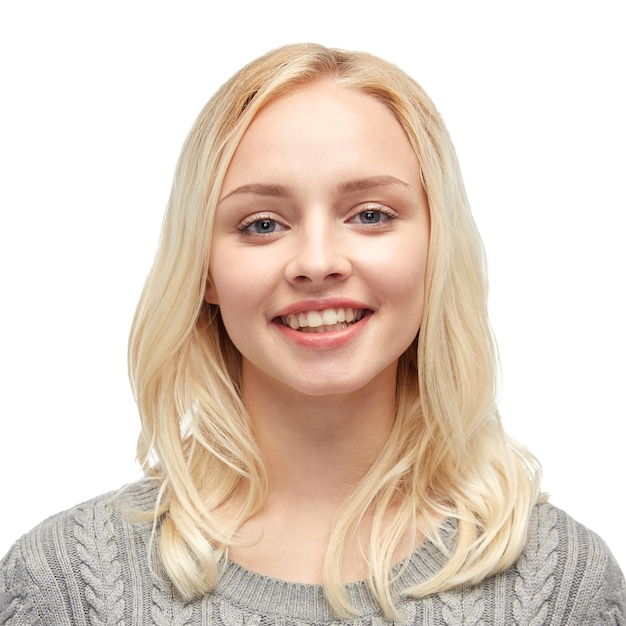teen: (150, 29, 483, 386)
